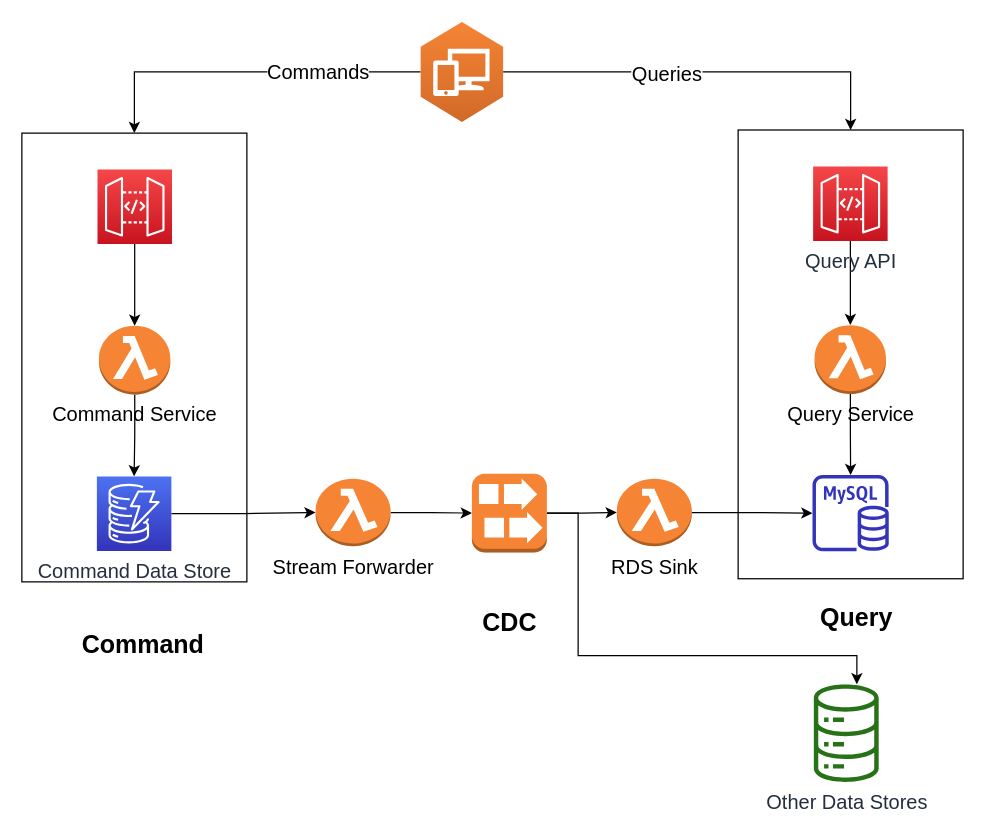
Some shapes in this 985 by 836 pixel diagram are drawn without their labels. Each missing label, with the centre of its shape:
"Command API" goes at pixel 134 206.
"Kinesis Stream" goes at pixel 509 512.
"Simulator App" goes at pixel 461 71.
